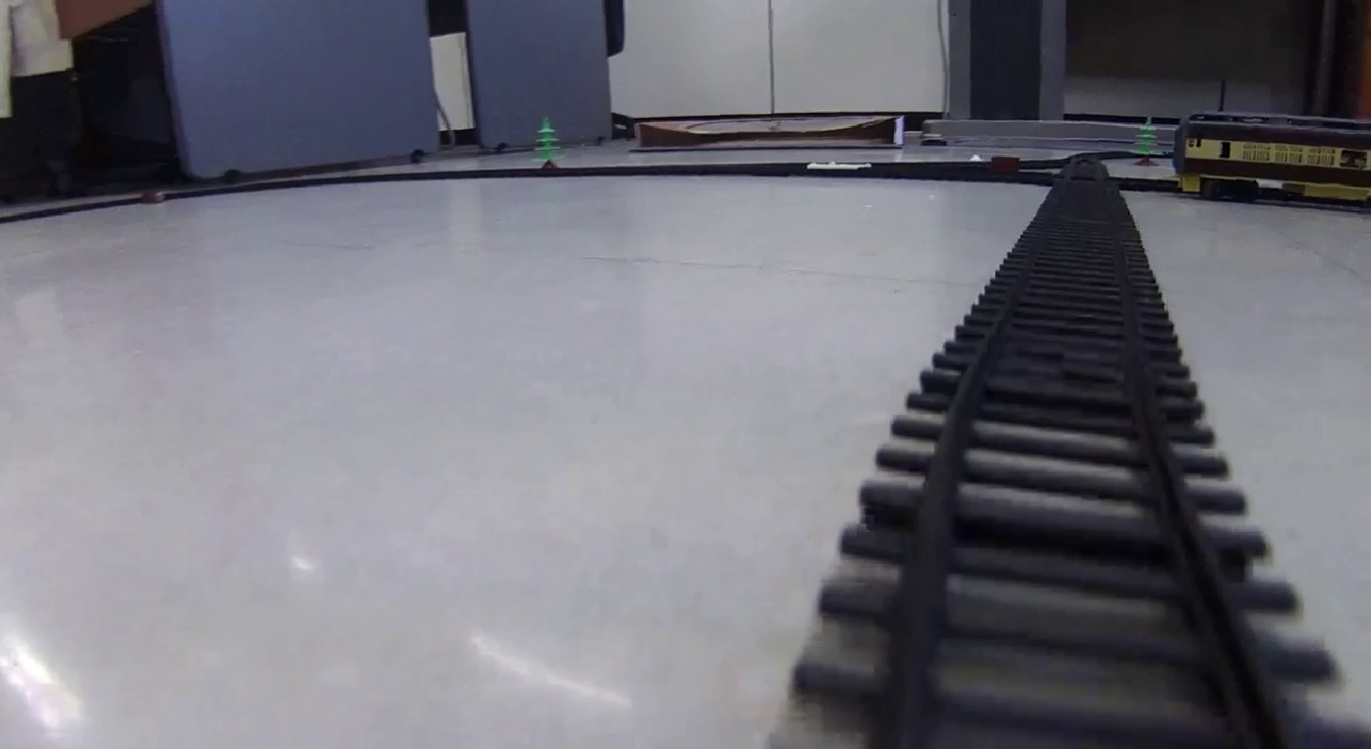tree: (531, 117, 563, 167)
